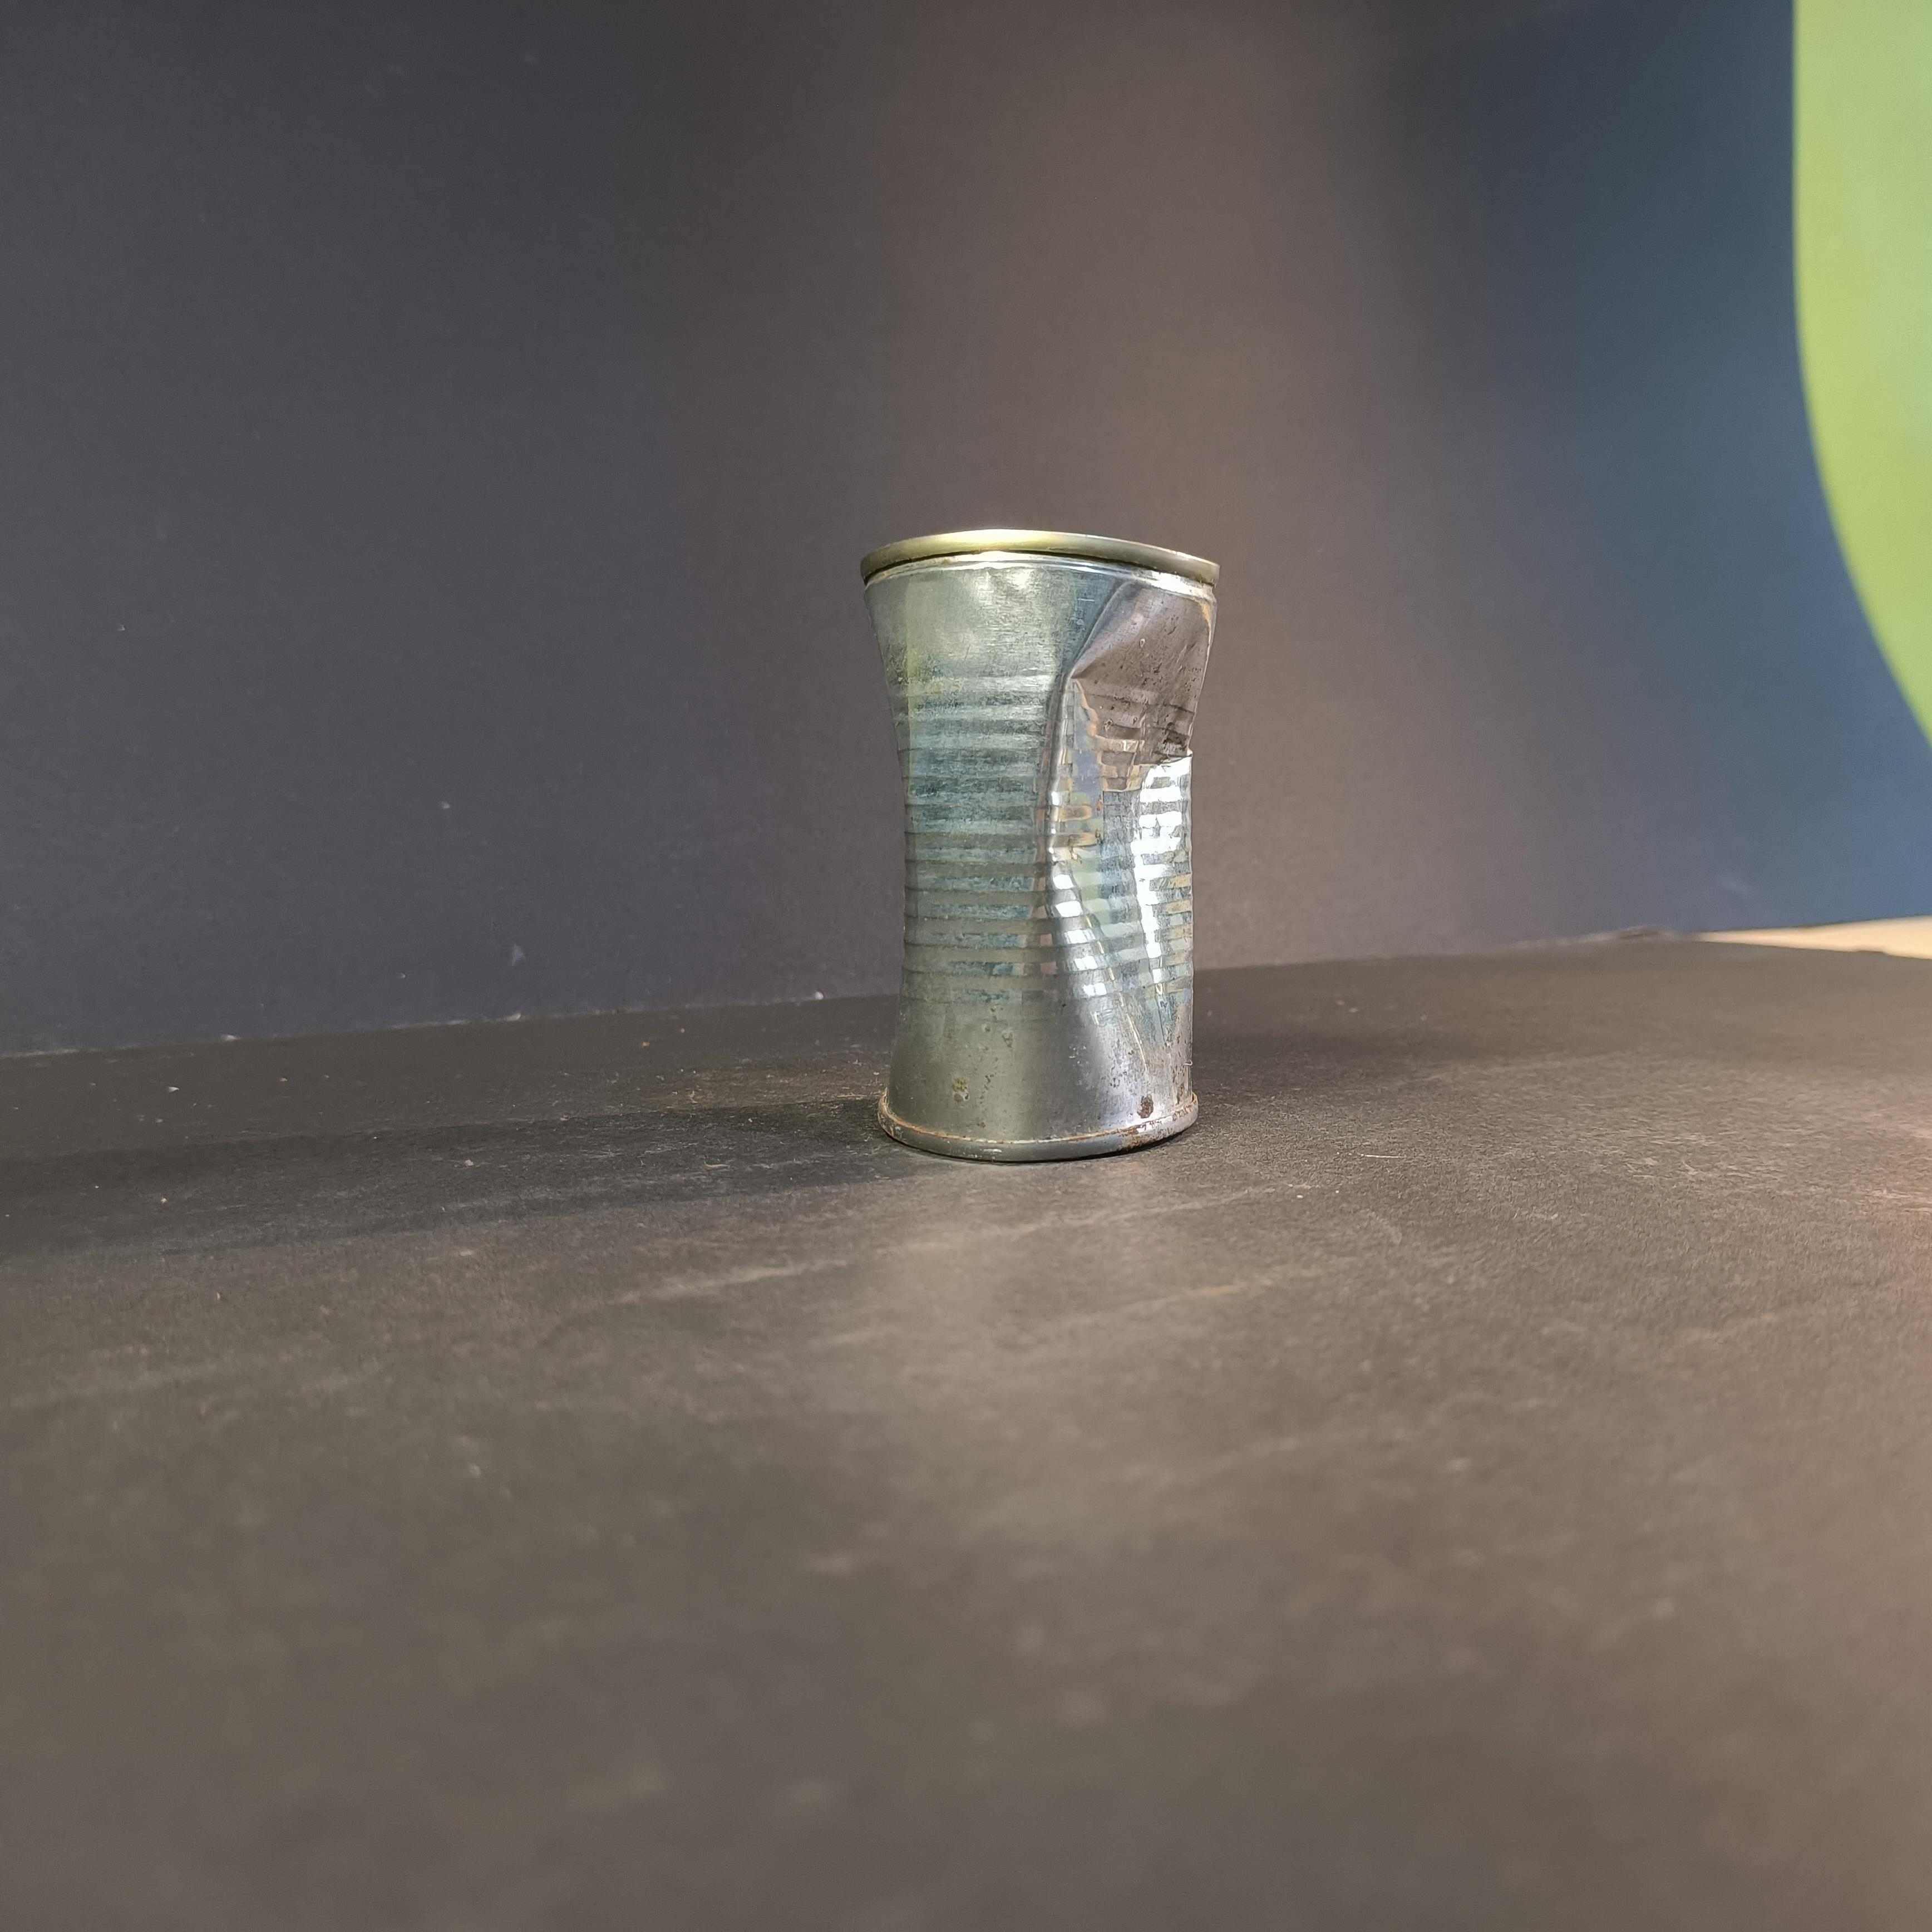Dented: (837, 517, 1241, 1157)
